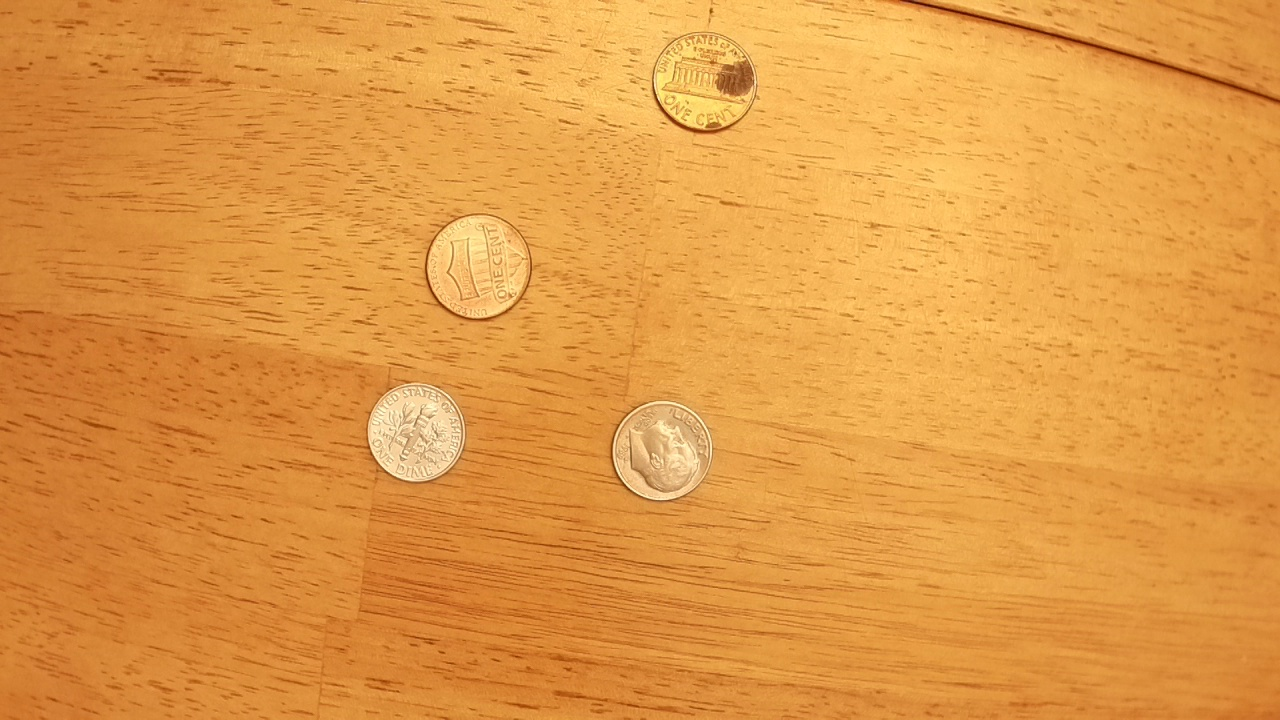dime: (608, 398, 716, 506), (364, 379, 468, 485)
penny: (420, 209, 534, 323), (650, 28, 760, 136)
